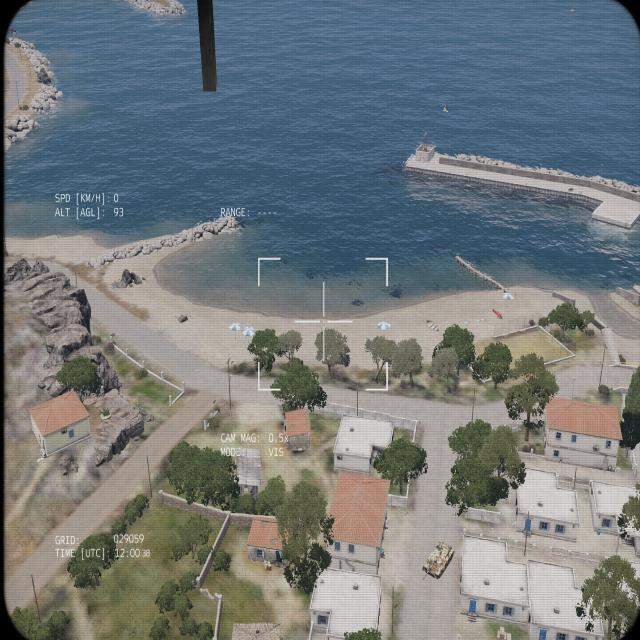tank: (420, 541, 454, 582)
